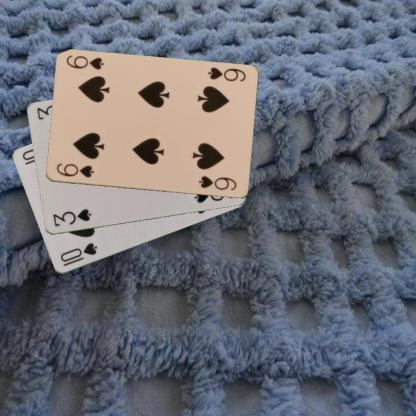10s: (57, 240, 99, 268)
3s: (50, 206, 92, 228)
6s: (53, 161, 95, 179), (205, 65, 247, 83)
